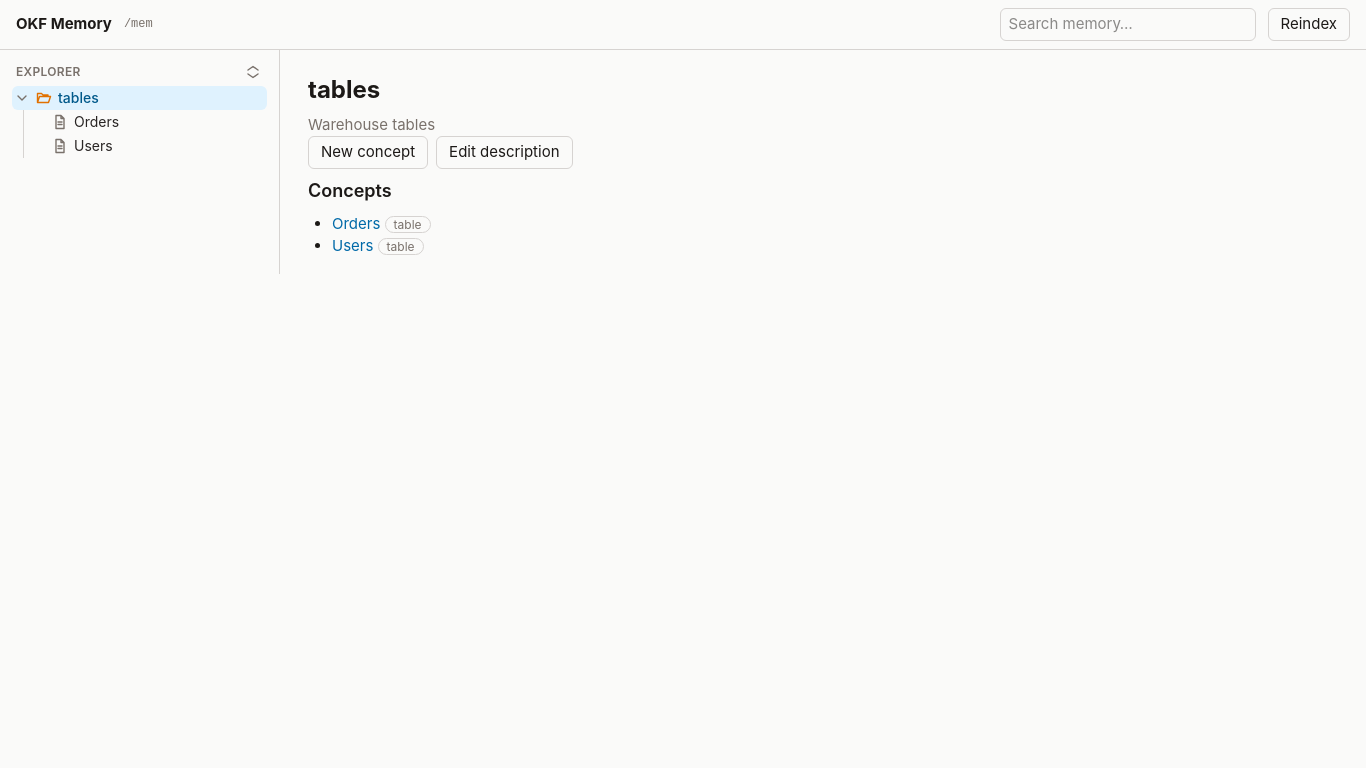
Test case: manage › describes a directory and reindexes
Click the button "Edit description" at coordinates (504, 152), box top-left (436, 136), bottom-right (572, 168)
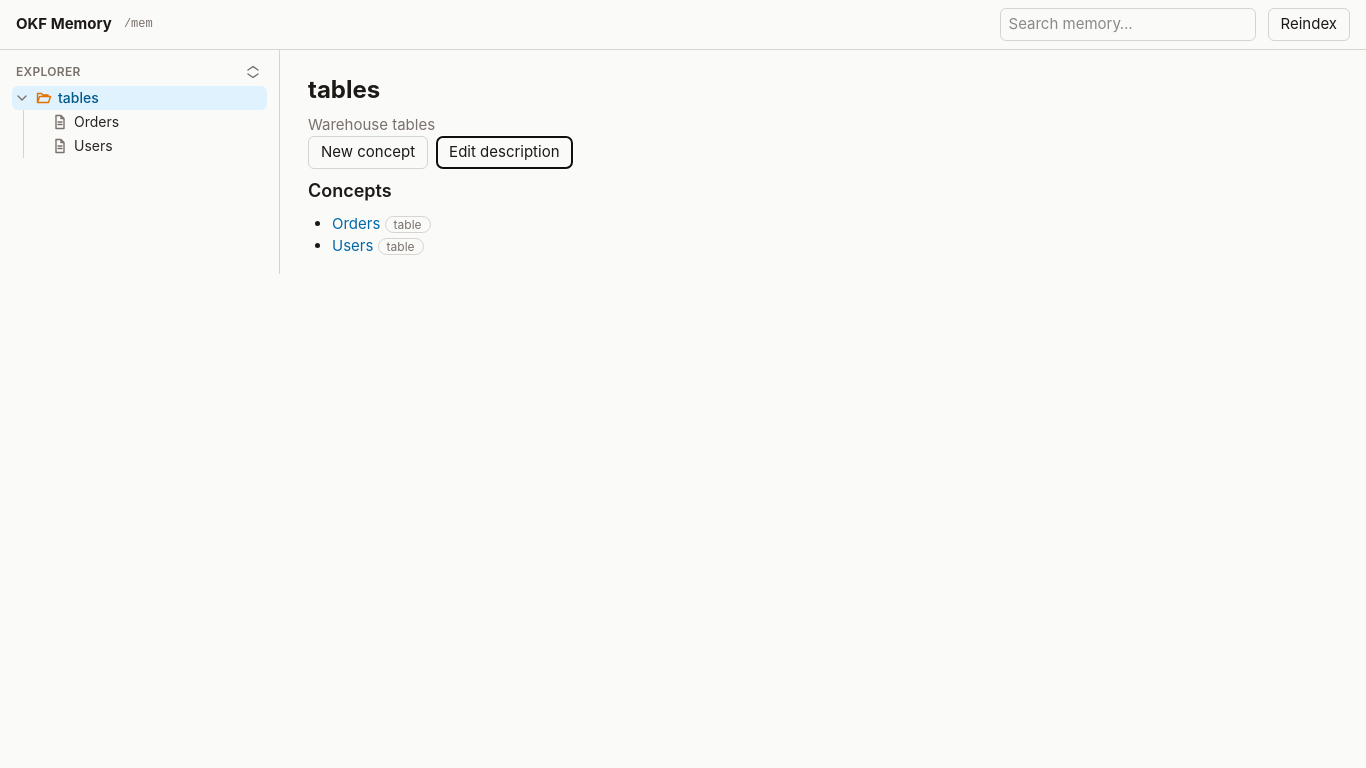
Click the button "Reindex" at coordinates (1309, 24), box top-left (1268, 8), bottom-right (1350, 40)
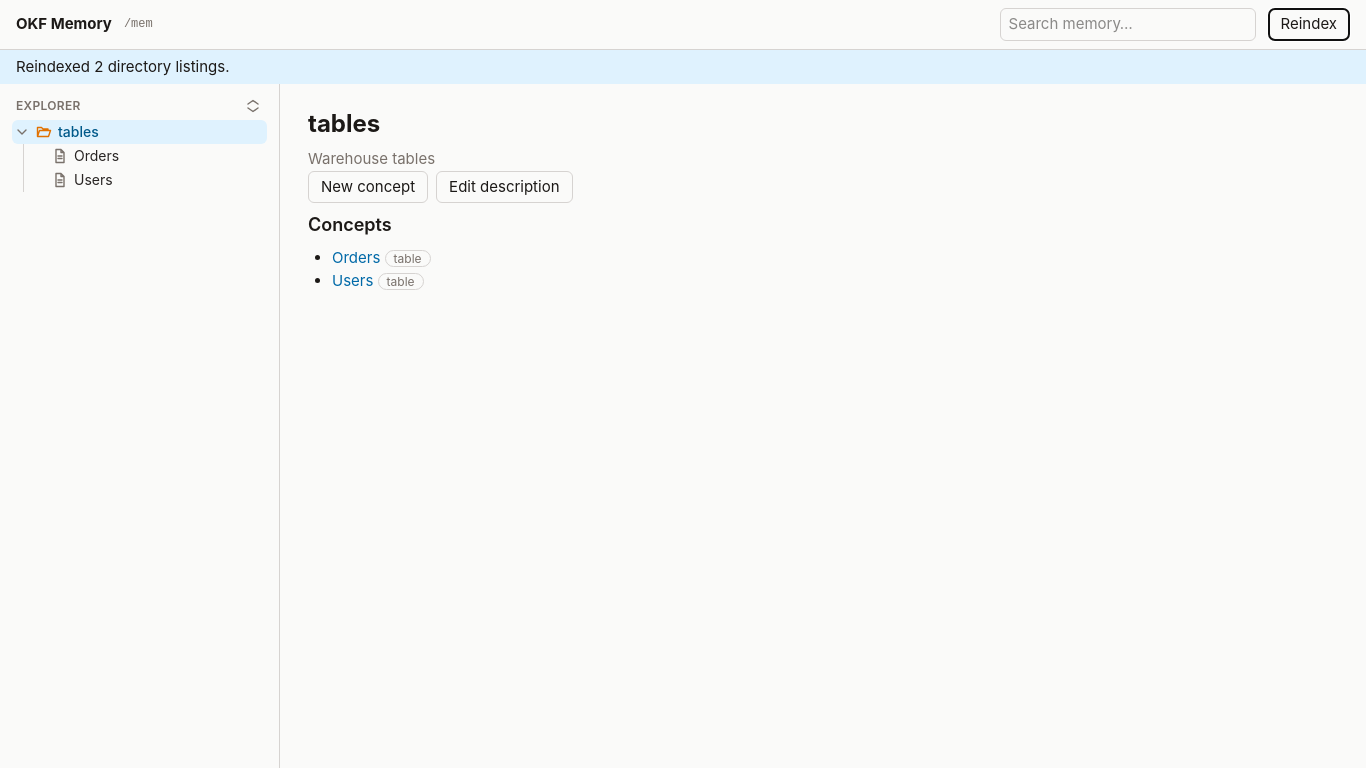
Expected: the message shows "Reindexed", top-left (16, 56), bottom-right (230, 76)
